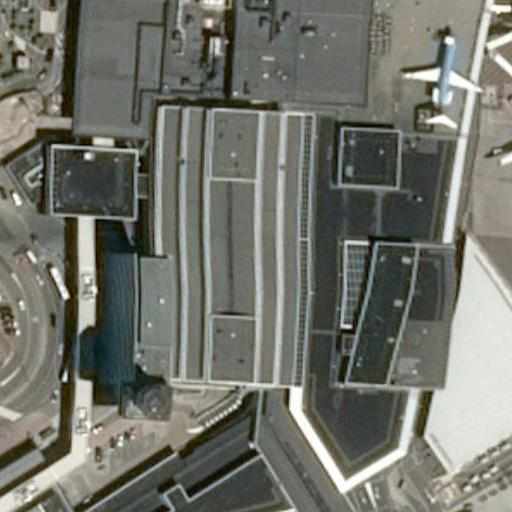Aircraft: (399, 31, 484, 131), (497, 67, 512, 220)
